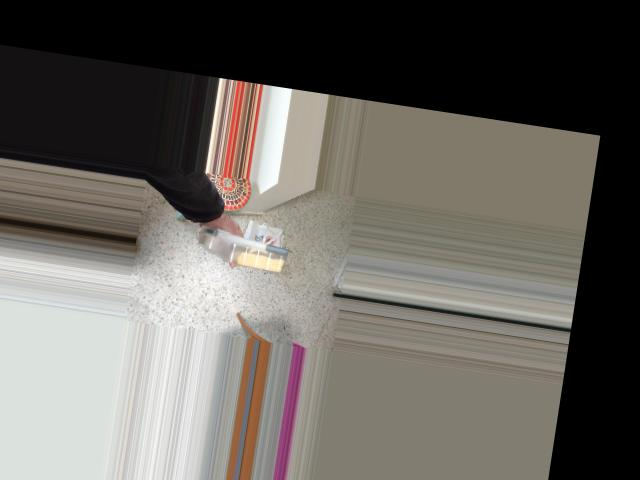cheese: (209, 181, 299, 298)
